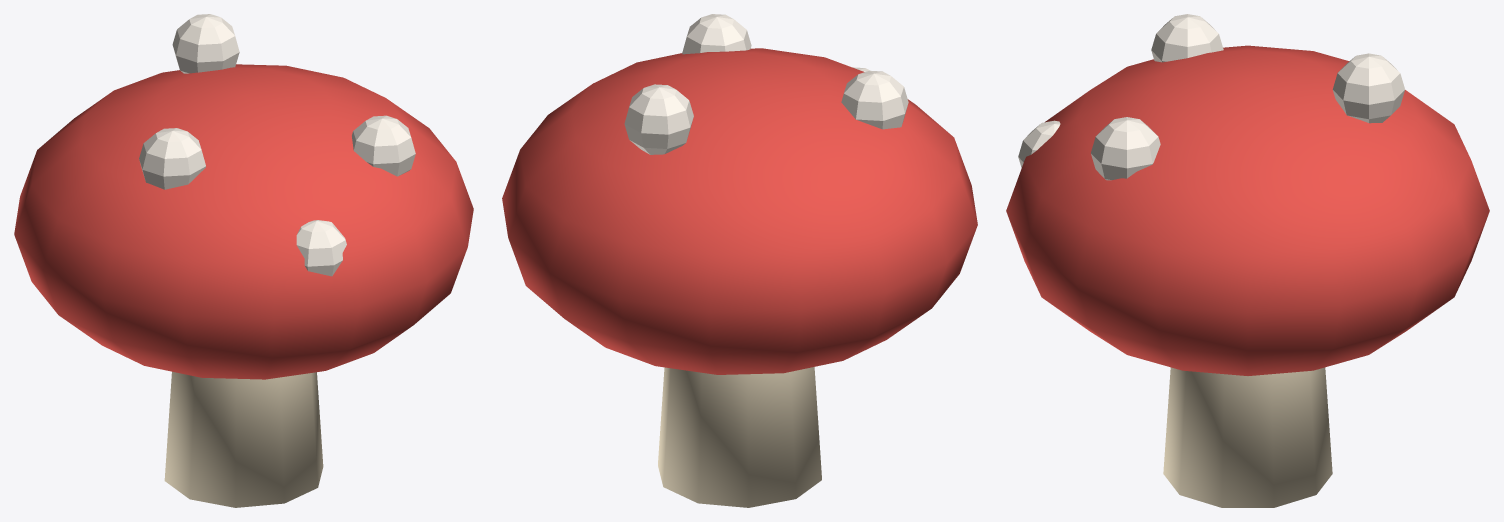
File: mushroom.glb
The picture shows the model from 3 angles, left to right: view 1: azimuth 30°, elevation 25°; view 2: azimuth 150°, elevation 25°; view 3: azimuth 270°, elevation 25°; orthographic projection. The views are drawn at different scales.
Visible parts, largest first — view 1: mushroom; view 2: mushroom; view 3: mushroom.
Boxes of the visible parts, box(x1,y1,x2,y2) form: mushroom: box(14, 14, 473, 507); mushroom: box(502, 14, 977, 507); mushroom: box(1006, 14, 1489, 507).
Size of the model in its own units: 0.4 by 0.39 by 0.4.
